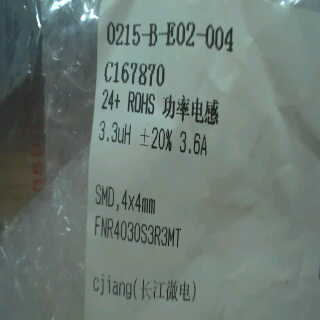3.3uH: (97, 111, 132, 153)
